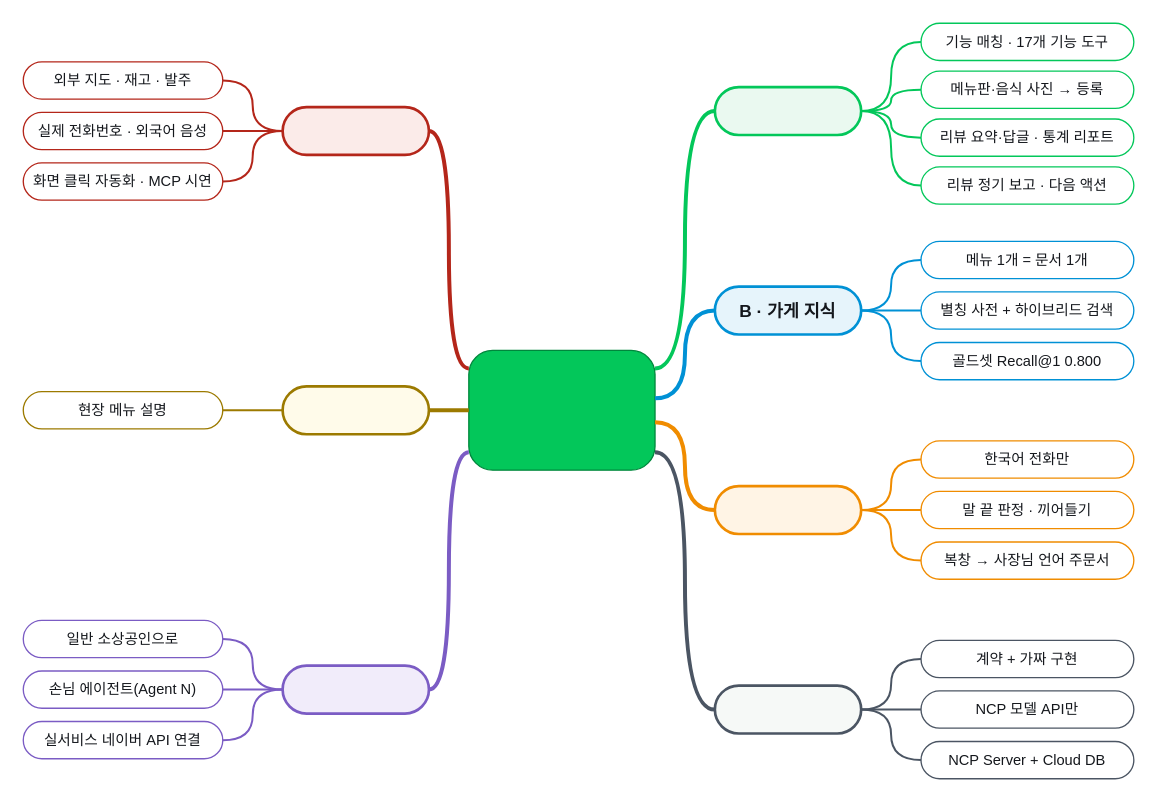
Some shapes in this 1157 by 802 pixel diagram are drawn without their labels. The shapes that lost their labels are listed below. From the top down, each one's box as (x1, y1, x2, y2) in pixels, then its label:
(281, 105, 430, 156): 안 하는 것
(713, 85, 862, 136): A · 사장님 비서
(281, 384, 430, 435): 보류
(467, 349, 655, 470): AgentHan 외국인 사장님의 네이버 비서
(713, 484, 862, 535): C · 전화 주문
(281, 664, 430, 714): 확장성 (발표)
(713, 684, 862, 734): 공통
